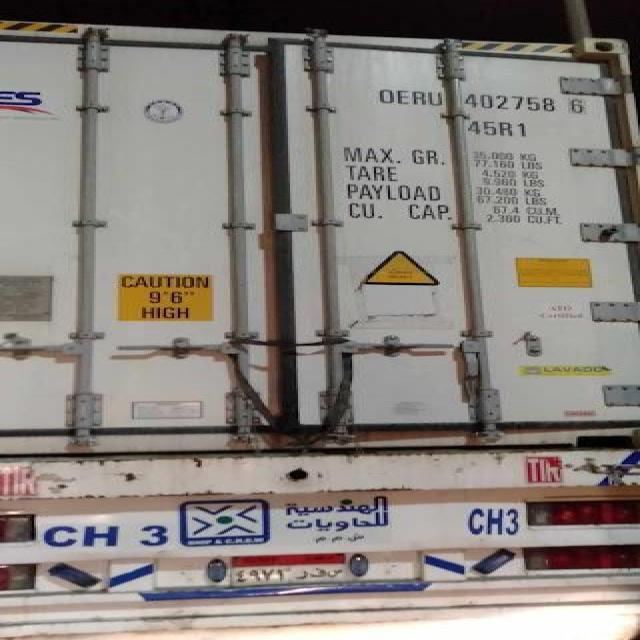ISO: (466, 118, 529, 140)
container_number: (374, 84, 590, 122)
